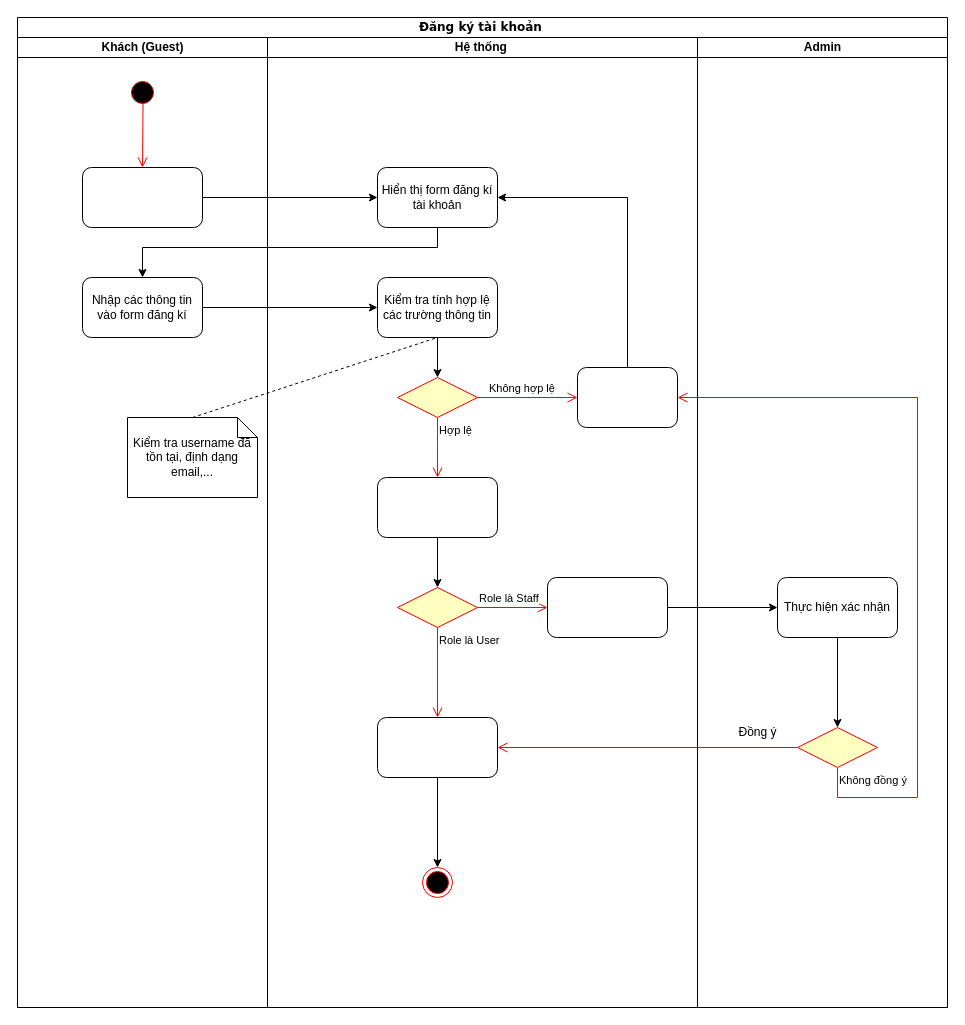
The diagram is 965 pixels wide and 1025 high, and some of its shapes have lost their labels. The shapes that lost their labels are listed below. From the top down, each one's centre as x and y in pixels, then its label:
At point (142, 197): "Chọn đăng kí tài khoản".
At point (627, 397): "Thông báo đăng kí thất bại".
At point (437, 507): "Kiểm tra Role lựa chọn".
At point (607, 607): "Gửi thông báo cho Admin xác nhận".
At point (437, 747): "Thông báo đăng kí thành công".
